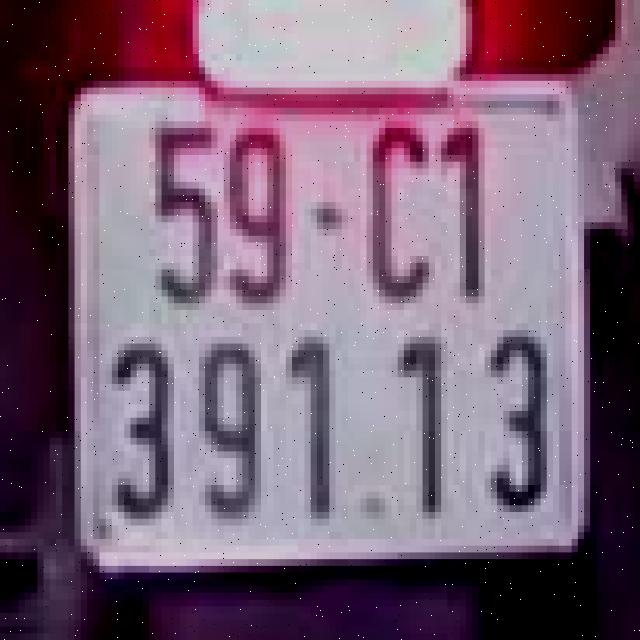1: (273, 313, 348, 549), (376, 320, 450, 536), (441, 115, 497, 303)
3: (478, 313, 566, 509), (93, 333, 180, 529)
5: (146, 98, 227, 313)
9: (227, 121, 295, 310), (189, 326, 258, 508)
C: (360, 98, 435, 313)
